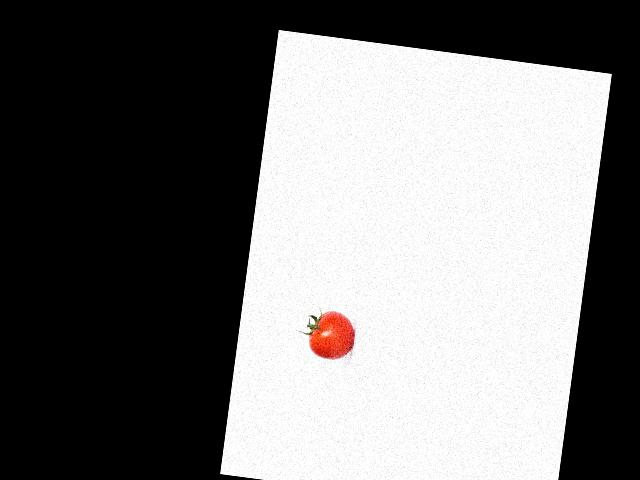tomato: (306, 309, 356, 362)
